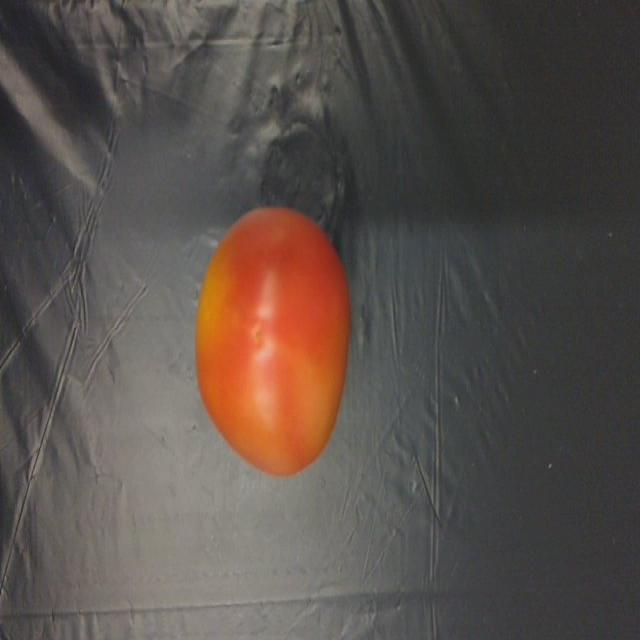sari: (190, 174, 357, 492)
